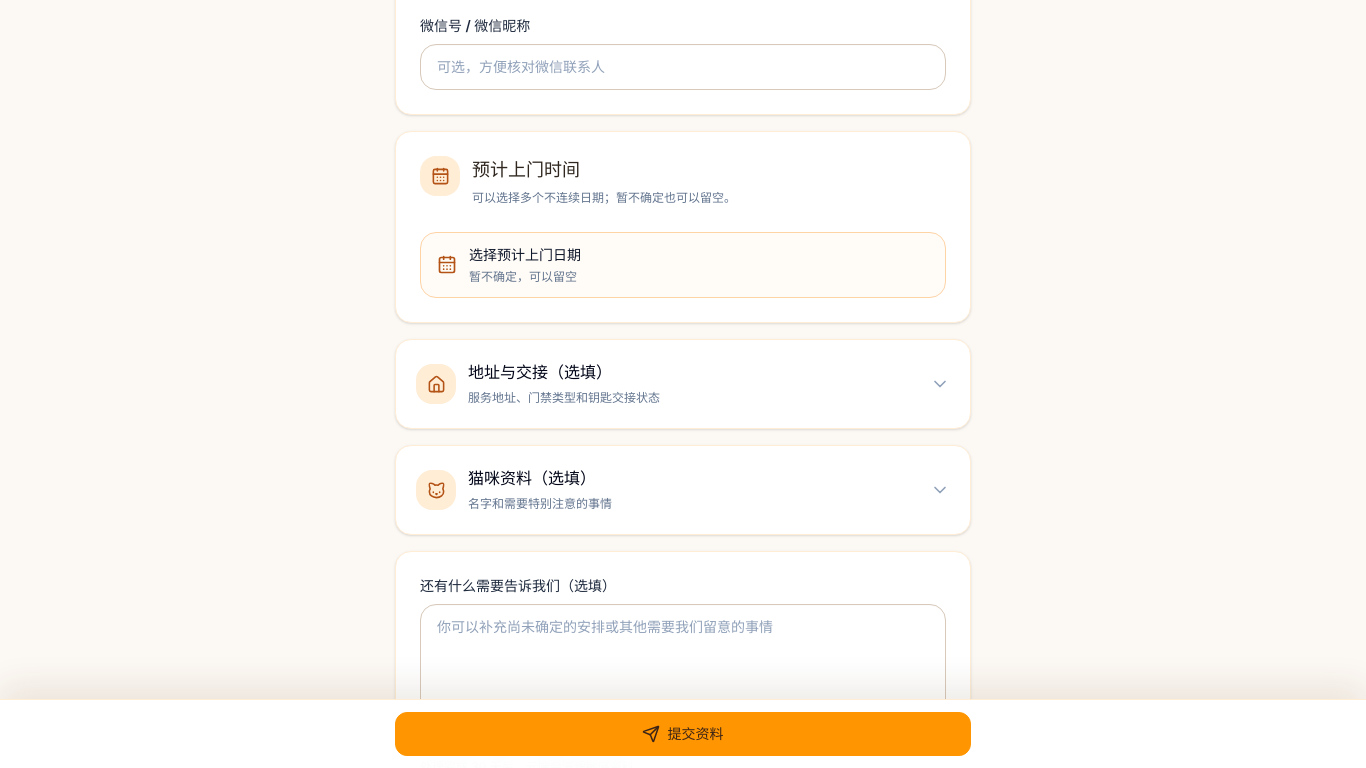
Test case: shows only the core form first and reveals simplified optional sections
(page scrolled)
Click the button "地址与交接（选填） 服务地址、门禁类型和钥匙交接状态" at (436, 384), box [396,340,970,428]
(page scrolled)
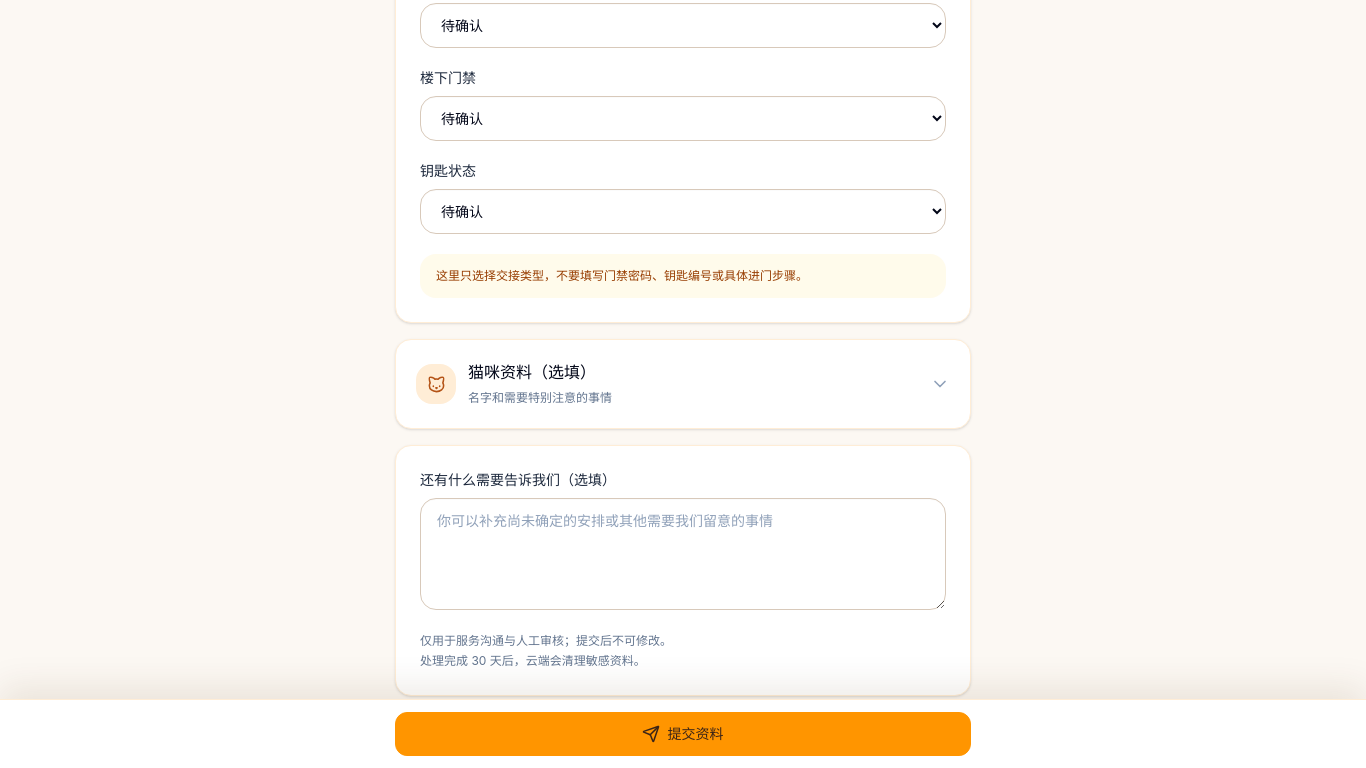
Now the dropdown labelled "小区门禁" shows "待确认", box [420,3,946,48]
Now the dropdown labelled "楼下门禁" shows "待确认", box [420,96,946,141]
Now the dropdown labelled "钥匙状态" is shown, box [420,189,946,234]
Click the button "猫咪资料（选填） 名字和需要特别注意的事情" at (436, 384), box [396,340,970,428]
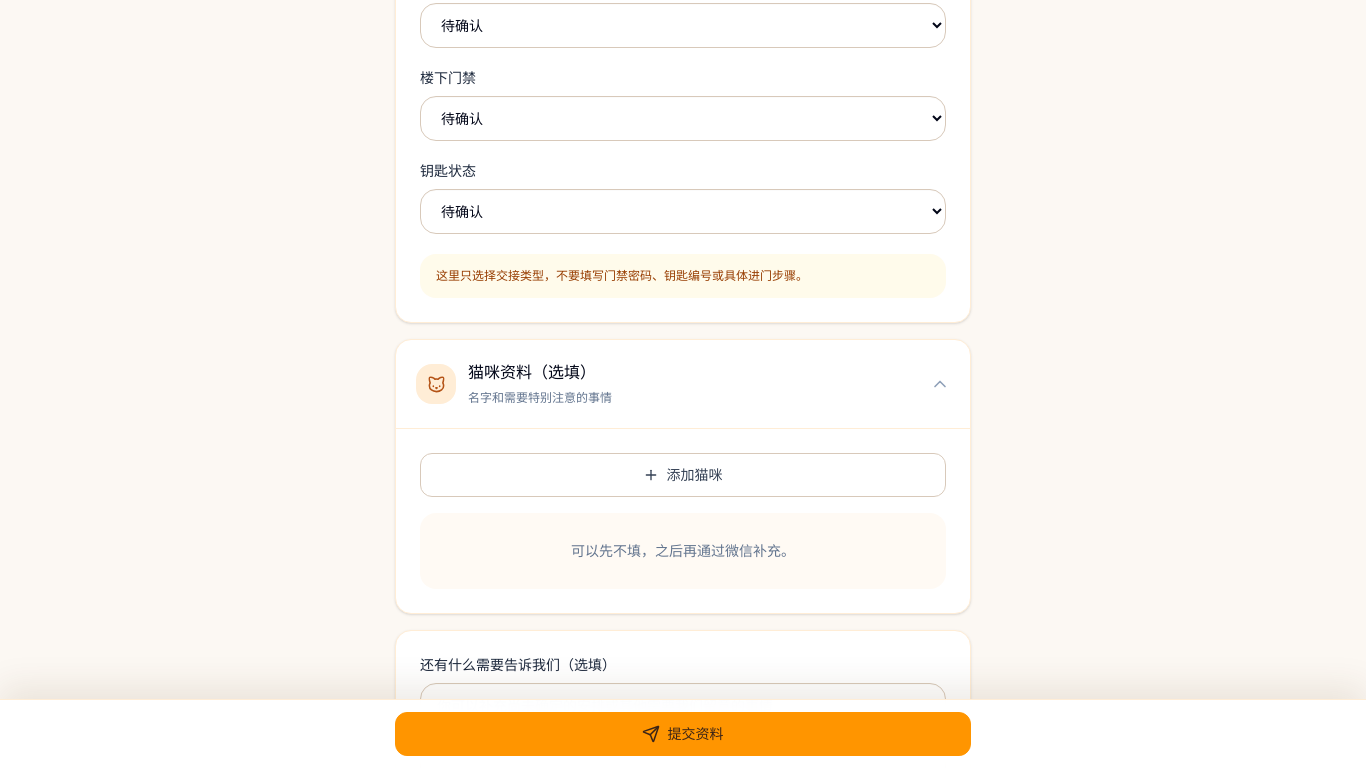
Click the button "添加猫咪" at (683, 475), box [420,453,946,497]
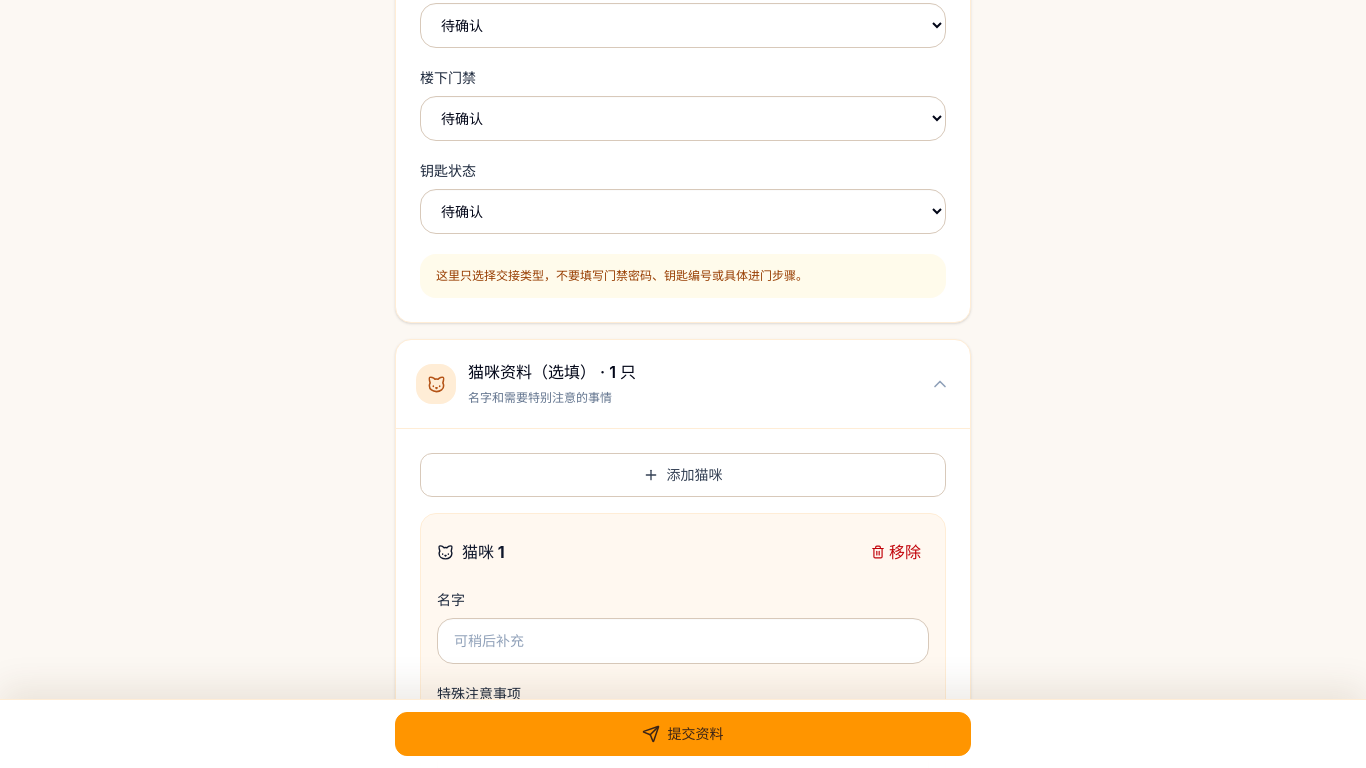
Now the field labelled "名字" is shown, box [437,618,929,664]
